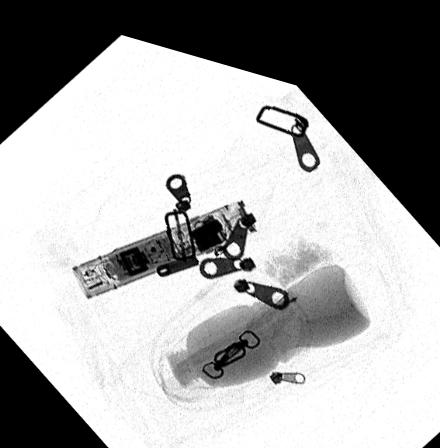Baton: (70, 183, 259, 294)
